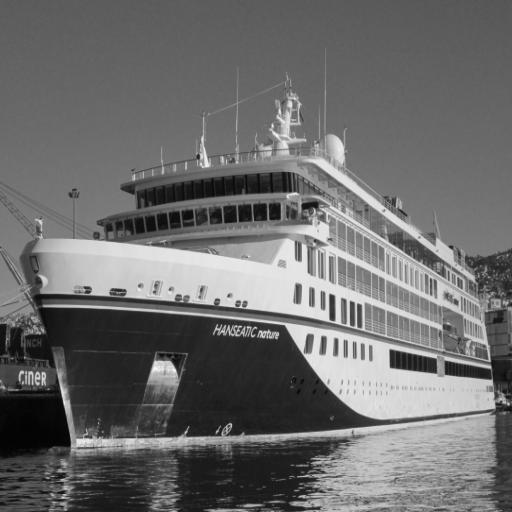cruises: (17, 80, 501, 465)
